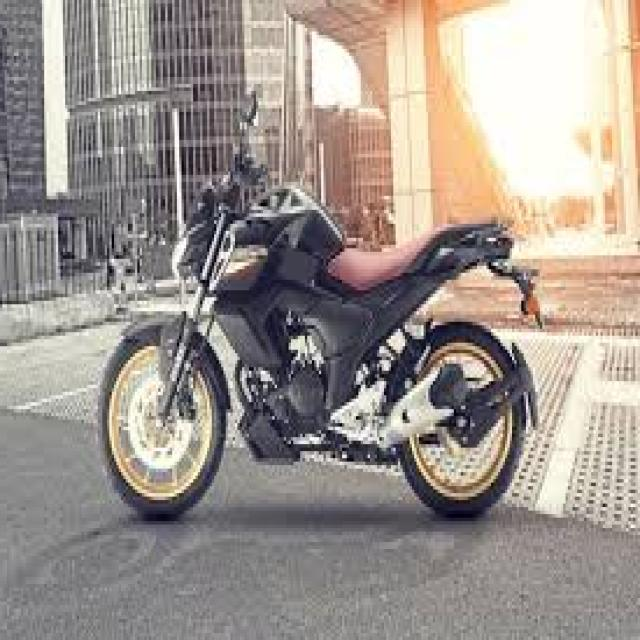bike: (96, 89, 542, 520)
